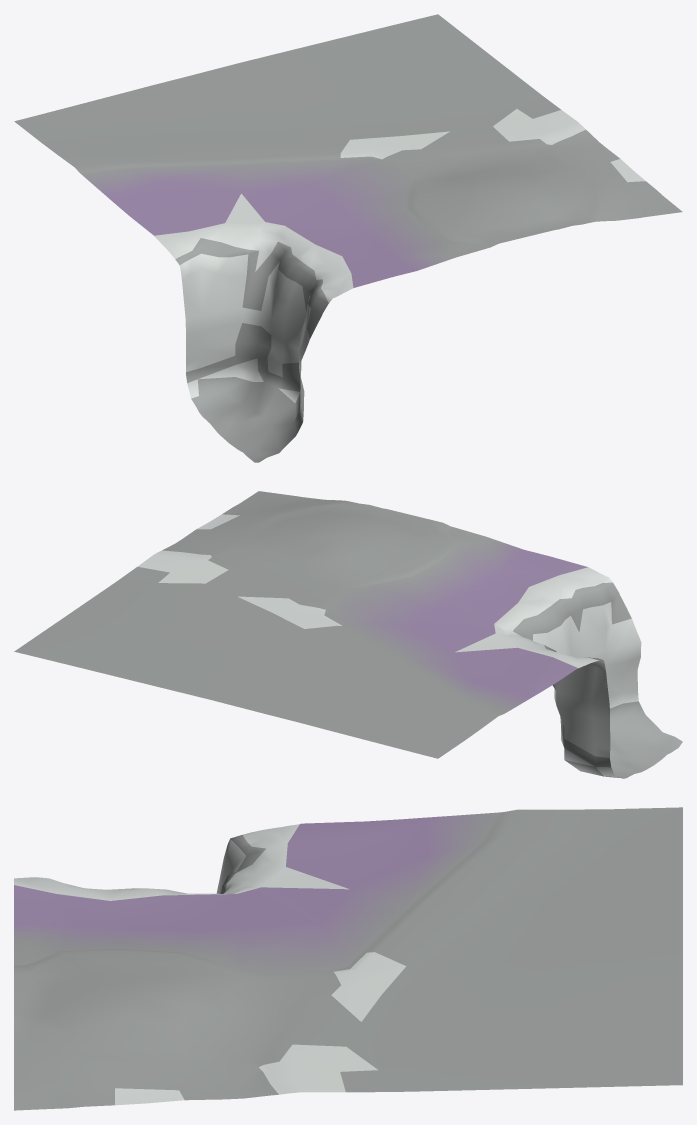
The picture shows the model from 3 angles, top to bottom: view 1: azimuth 30°, elevation 25°; view 2: azimuth 150°, elevation 25°; view 3: azimuth 270°, elevation 25°; orthographic projection. The views are drawn at different scales.
Visible parts, largest first — view 1: G:\FFXIV-MapTools\exports\m5f1\bg\ex4\02_mid_m5\fld\m5f1\bgp (×11); view 2: G:\FFXIV-MapTools\exports\m5f1\bg\ex4\02_mid_m5\fld\m5f1\bgp (×10); view 3: G:\FFXIV-MapTools\exports\m5f1\bg\ex4\02_mid_m5\fld\m5f1\bgp (×6).
Boxes of the visible parts, x1=… form: G:\FFXIV-MapTools\exports\m5f1\bg\ex4\02_mid_m5\fld\m5f1\bgp (×11): x1=14, y1=14, x2=682, y2=462; G:\FFXIV-MapTools\exports\m5f1\bg\ex4\02_mid_m5\fld\m5f1\bgp (×10): x1=14, y1=491, x2=682, y2=778; G:\FFXIV-MapTools\exports\m5f1\bg\ex4\02_mid_m5\fld\m5f1\bgp (×6): x1=14, y1=807, x2=682, y2=1110.
Bounding box in the file's own units: 128 × 49.21 × 128.
